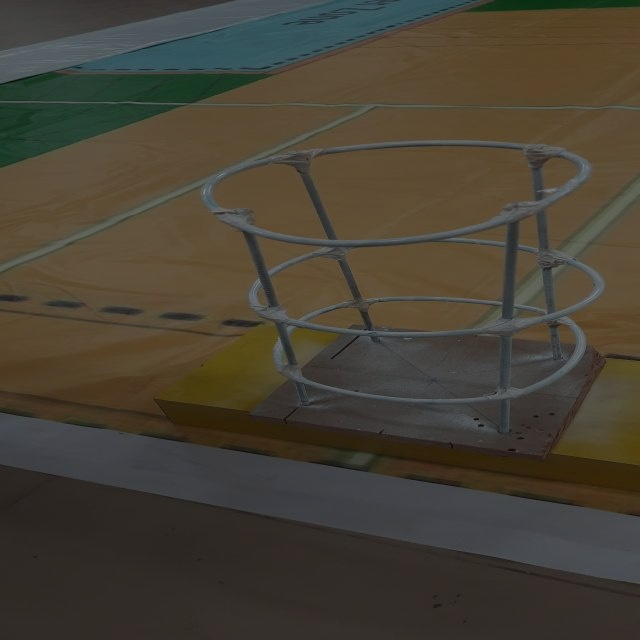silo: (171, 119, 640, 455)
